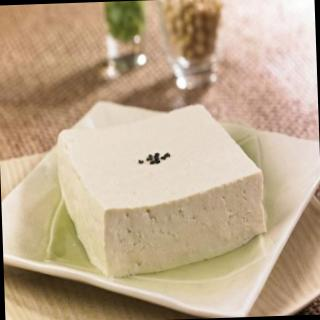Tahu: (41, 104, 296, 270)
